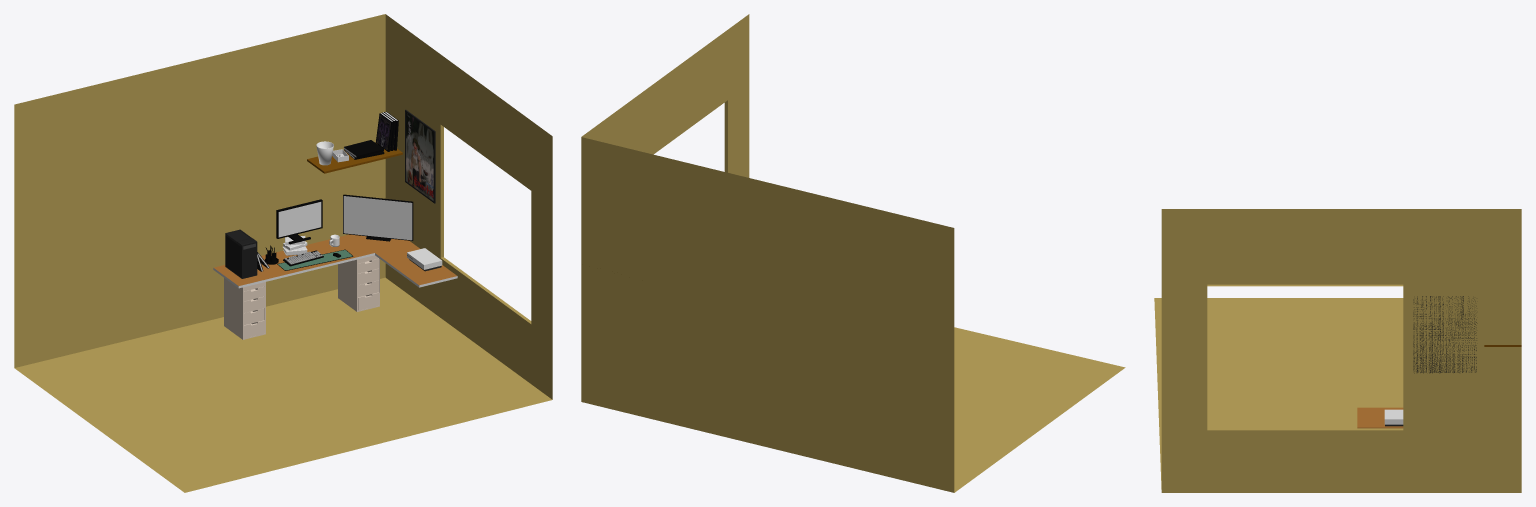
File: room_named.glb
3 views of the same model, side by side, from view 1: azimuth 30°, elevation 25°; view 2: azimuth 150°, elevation 25°; view 3: azimuth 270°, elevation 25° (orthographic). The views are drawn at different scales.
Parts seen in each view (by area): view 1: Wall, Table, TV, Poster, DrawersL, DrawerR, Computer Monitor, Computer, DnD Books, Shelf; view 2: Wall; view 3: Wall, Poster, Table.
Boxes of the visible parts, bbox=[...] form: Wall: bbox=[14, 14, 552, 492]; Table: bbox=[213, 234, 457, 288]; TV: bbox=[343, 194, 413, 241]; Poster: bbox=[405, 109, 435, 203]; DrawersL: bbox=[224, 278, 265, 339]; DrawerR: bbox=[338, 255, 379, 311]; Computer Monitor: bbox=[276, 199, 322, 244]; Computer: bbox=[225, 229, 257, 278]; DnD Books: bbox=[344, 111, 398, 159]; Shelf: bbox=[307, 143, 402, 173]; Wall: bbox=[581, 14, 1125, 492]; Wall: bbox=[1154, 209, 1521, 492]; Poster: bbox=[1413, 296, 1477, 373]; Table: bbox=[1357, 407, 1403, 428].
Bounding box in the file's own units: 6.84 × 4.6 × 5.39.
26 materials, 4 textured.
